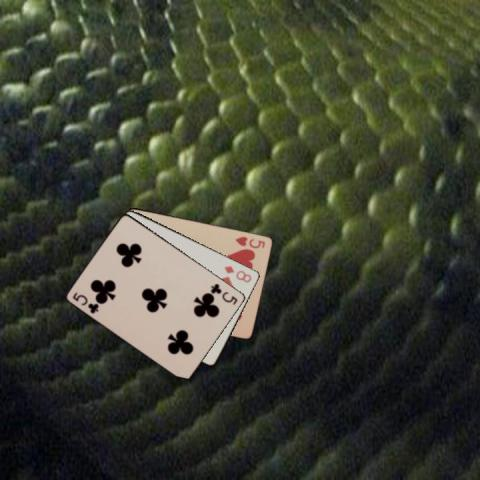5c: (69, 289, 101, 315), (208, 280, 239, 306)
5h: (232, 234, 267, 250)
8d: (222, 263, 254, 284)
